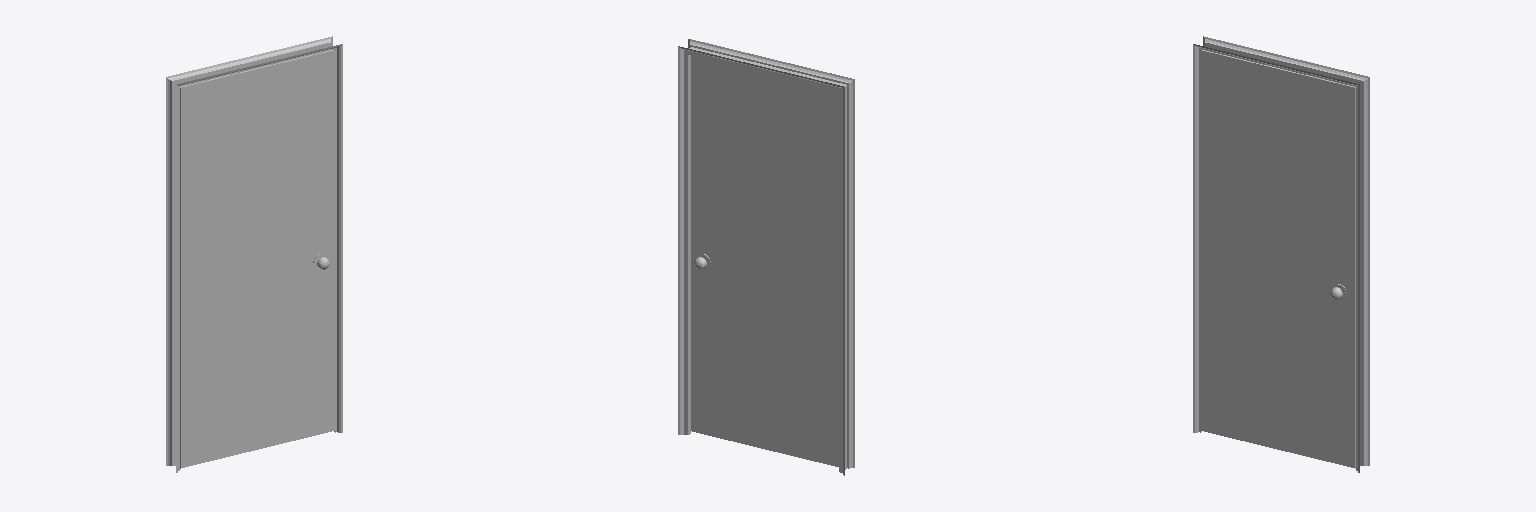
The model's file is mdl_door_01.obj.
3 renders of one model, left to right at view 1: azimuth 30°, elevation 25°; view 2: azimuth 150°, elevation 25°; view 3: azimuth 330°, elevation 25°, orthographic.
Parts seen in each view (by area): view 1: Object002; view 2: Object002; view 3: Object002.
Part boxes in pixels (x1,y1,x2,y2): Object002: (166, 36, 342, 472); Object002: (678, 39, 854, 475); Object002: (1193, 36, 1369, 472).
Bounding box in the file's own units: 94 × 210 × 16.43.